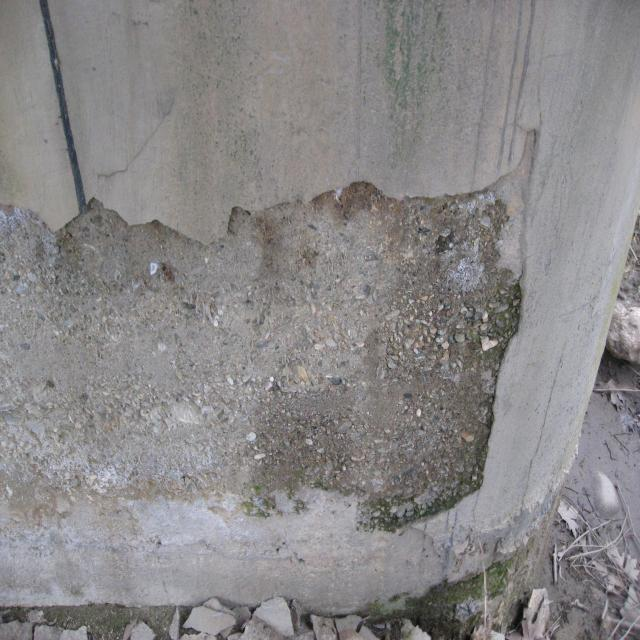concrete spalling: (0, 121, 543, 554)
diagonal crack: (95, 81, 181, 182)
vertical crack: (514, 352, 564, 556), (535, 0, 550, 121)
